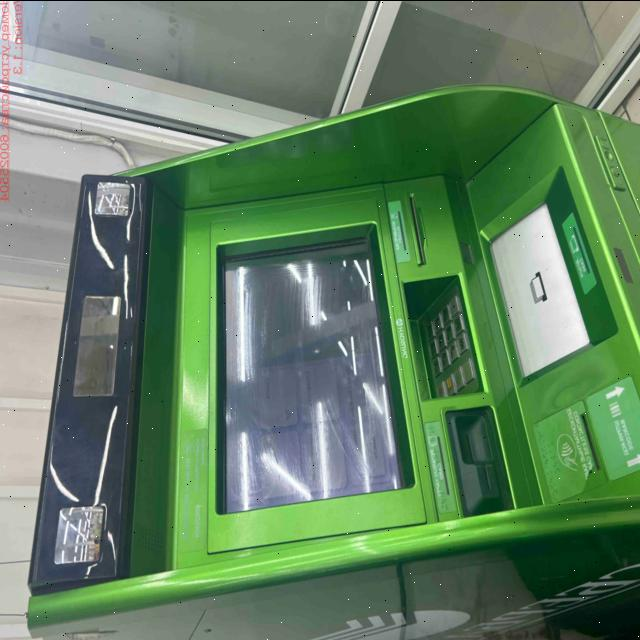bank: (26, 83, 639, 640)
